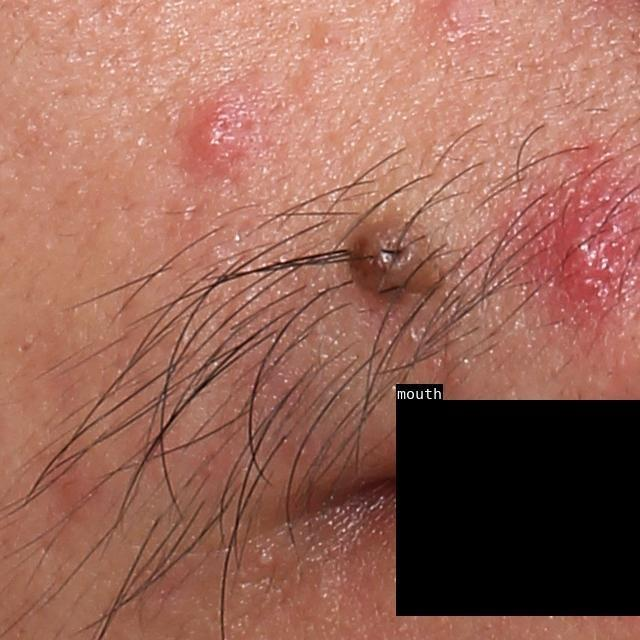nevus: (342, 214, 444, 309)
nodule: (533, 160, 638, 302)
papule: (180, 76, 273, 181), (62, 449, 116, 527)
pustule: (245, 537, 284, 582)
